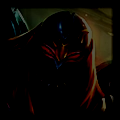Zed: (7, 8, 113, 117)
